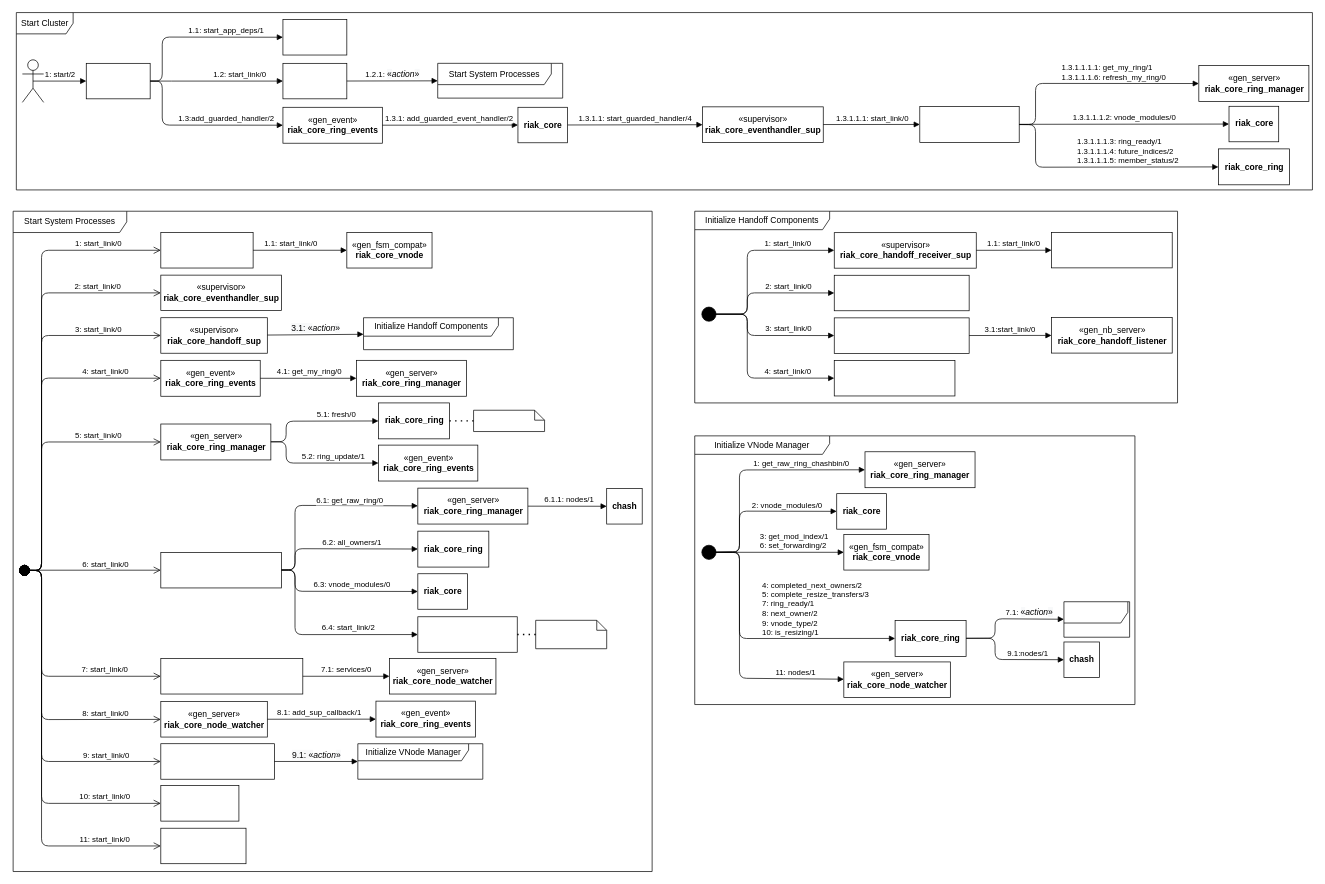
This 1325x884 diagram has some shape labels left out. Here are the shapes that lost their labels. From the top down, the centre of each, then its label:
At point (314, 37): "riak_core_util".
At point (118, 81): "«application» riak_core_app".
At point (314, 81): "«supervisor» riak_core_sup".
At point (969, 124): "«gen_event» riak_core_ring_handler".
At point (206, 250): "«supervisor» riak_core_vnode_sup".
At point (1111, 250): "«gen_server» riak_core_handoff_receiver".
At point (901, 293): "«supervisor» riak_core_handoff_sender_sup".
At point (901, 335): "«supervisor» riak_core_handoff_listener_sup".
At point (894, 378): "«gen_server» riak_core_handoff_manager".
At point (509, 421): "Called when no ring file is found".
At point (221, 570): "«supervisor» riak_core_vnode_proxy_sup".
At point (467, 634): "riak_core_vnode_proxy".
At point (571, 634): "Started for each registered node".
At point (1096, 619): "Check Tainted".
At point (231, 676): "«gen_event» riak_core_node_watcher_events".
At point (217, 761): "«gen_server» riak_core_vnode_manager".
At point (199, 803): "«gen_server» riak_core_gossip".
At point (203, 846): "«gen_server» riak_core_claimant".
